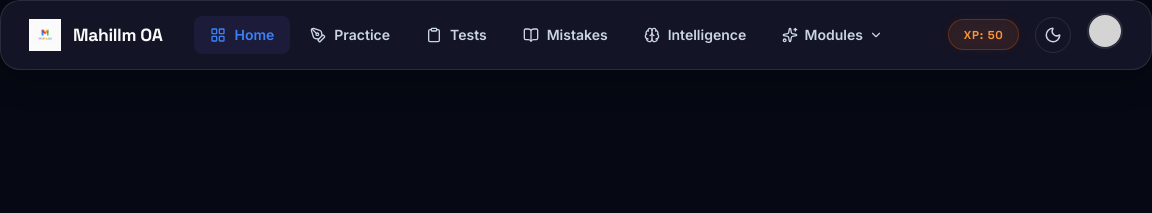
Test: Navbar FloatingMenu Integration › shows logout button which is clickable
Click the button with alt text "Profile". click: coordinates (1105, 32)
box: [1087,13,1123,52]
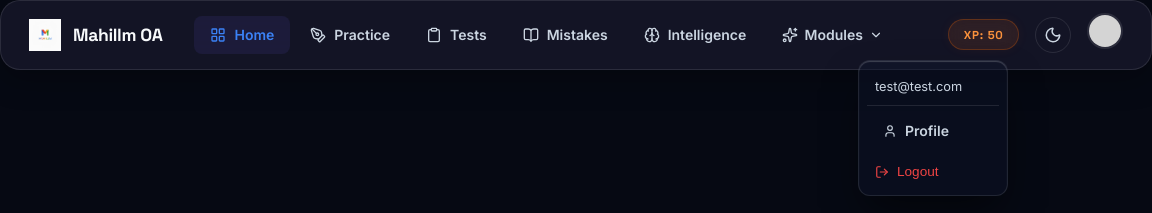
Expected: the menu item with class "logout-btn" is shown
Click the menu item with class "logout-btn". click: coordinates (933, 172)
box: [867,156,999,187]
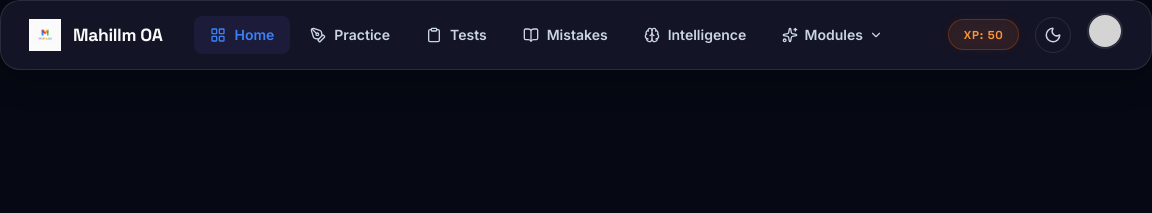
Expected: the text "test@test.com" is gone
